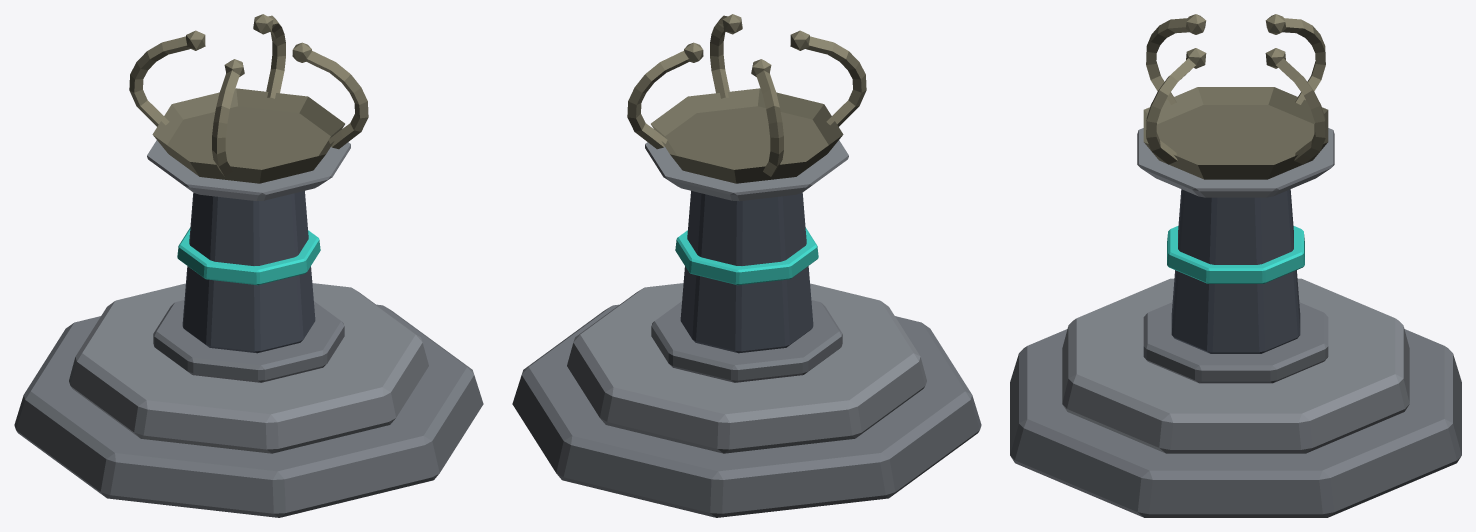
File: charm_altar.glb
The picture shows the model from 3 angles, left to right: view 1: azimuth 30°, elevation 25°; view 2: azimuth 150°, elevation 25°; view 3: azimuth 270°, elevation 25°; orthographic projection. The views are drawn at different scales.
Parts seen in each view (by area): view 1: CharmAltar; view 2: CharmAltar; view 3: CharmAltar.
Part boxes in pixels (x1,y1,x2,y2): CharmAltar: (14, 14, 483, 517); CharmAltar: (512, 14, 981, 517); CharmAltar: (1010, 14, 1461, 517).
Bounding box in the file's own units: 1.36 × 1.3 × 1.36.
